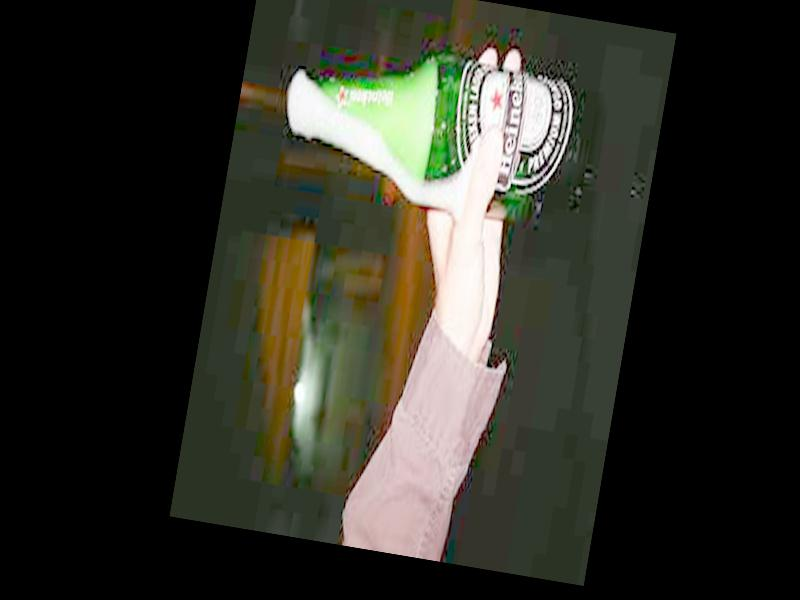Beer: (287, 28, 586, 231)
